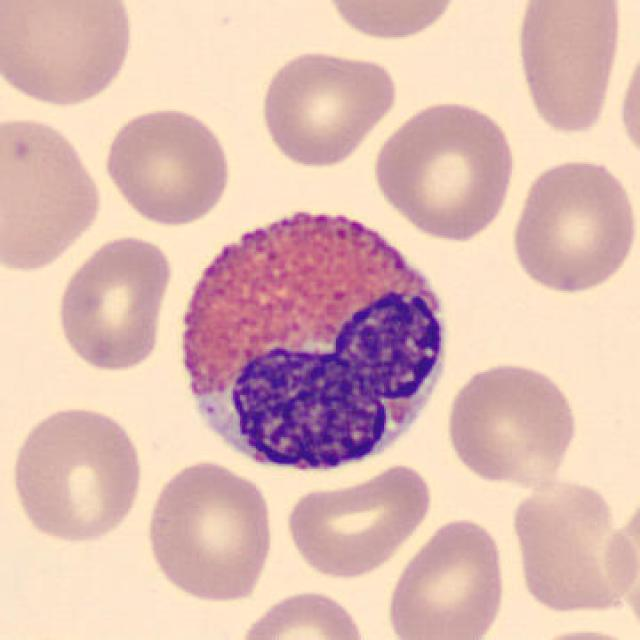Eosinophil: (162, 191, 460, 488)
RBC: (370, 95, 517, 242), (7, 400, 148, 547), (142, 456, 278, 606), (505, 474, 636, 619), (507, 154, 638, 296), (281, 460, 435, 580), (254, 46, 400, 169), (443, 358, 581, 488), (52, 231, 176, 374), (0, 111, 105, 275), (100, 102, 234, 228), (510, 0, 628, 138), (382, 515, 510, 640), (0, 0, 140, 111), (235, 585, 372, 640), (318, 0, 466, 44), (615, 36, 640, 170), (518, 624, 638, 640)
